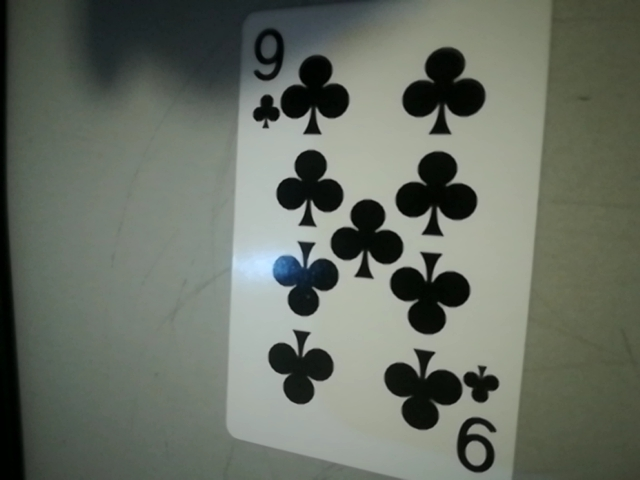mh 9: (451, 359, 515, 478)
